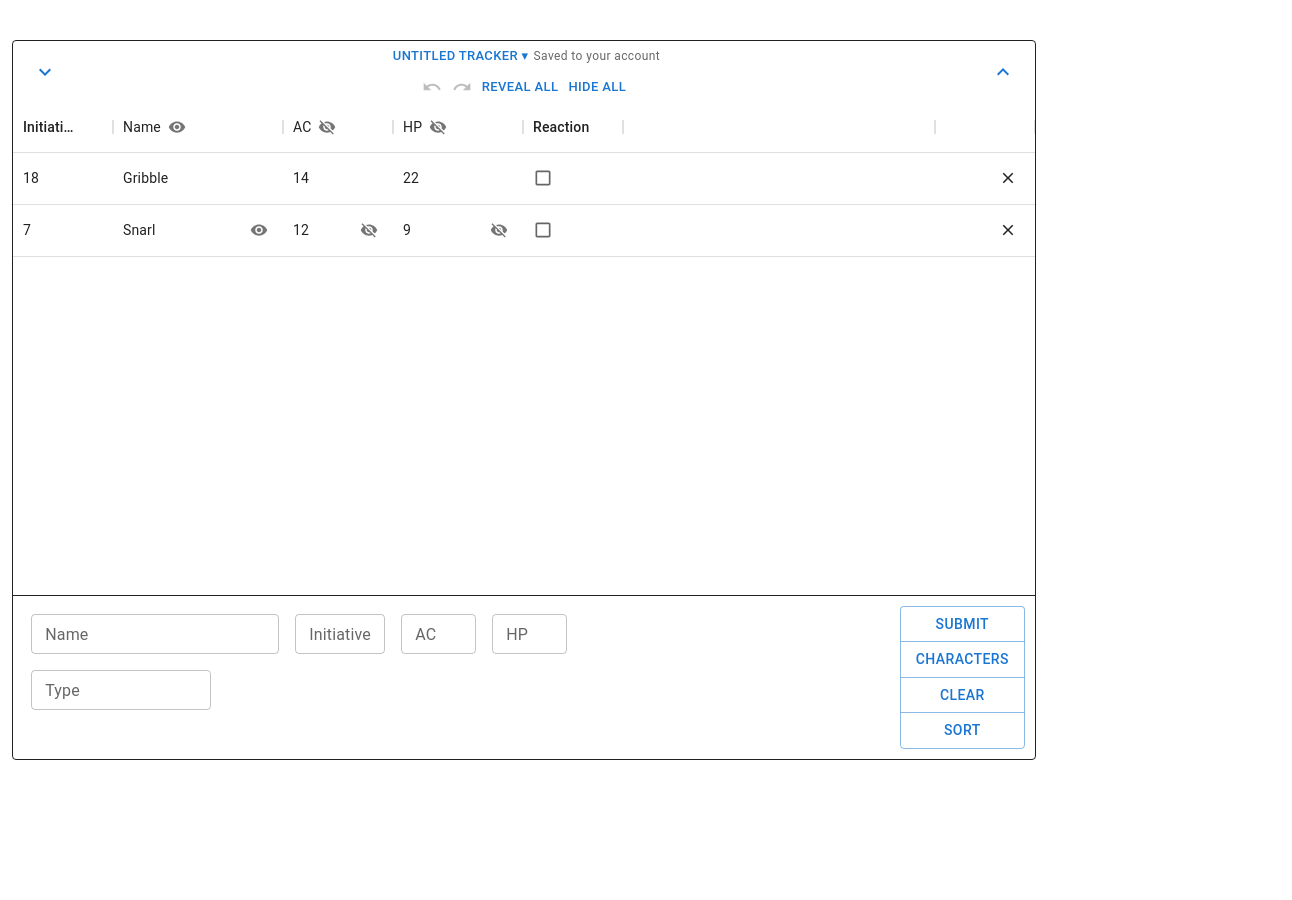
choosing a creature in the form › fills the name, initiative, AC and HP that were left empty
Expected: the text "Gribble" is shown, x1=123 y1=168 x2=168 y2=188
Type "Creature" into the dropdown labelled "Type".
click(105, 690); type("Creature")  # box x1=37 y1=676 x2=172 y2=704
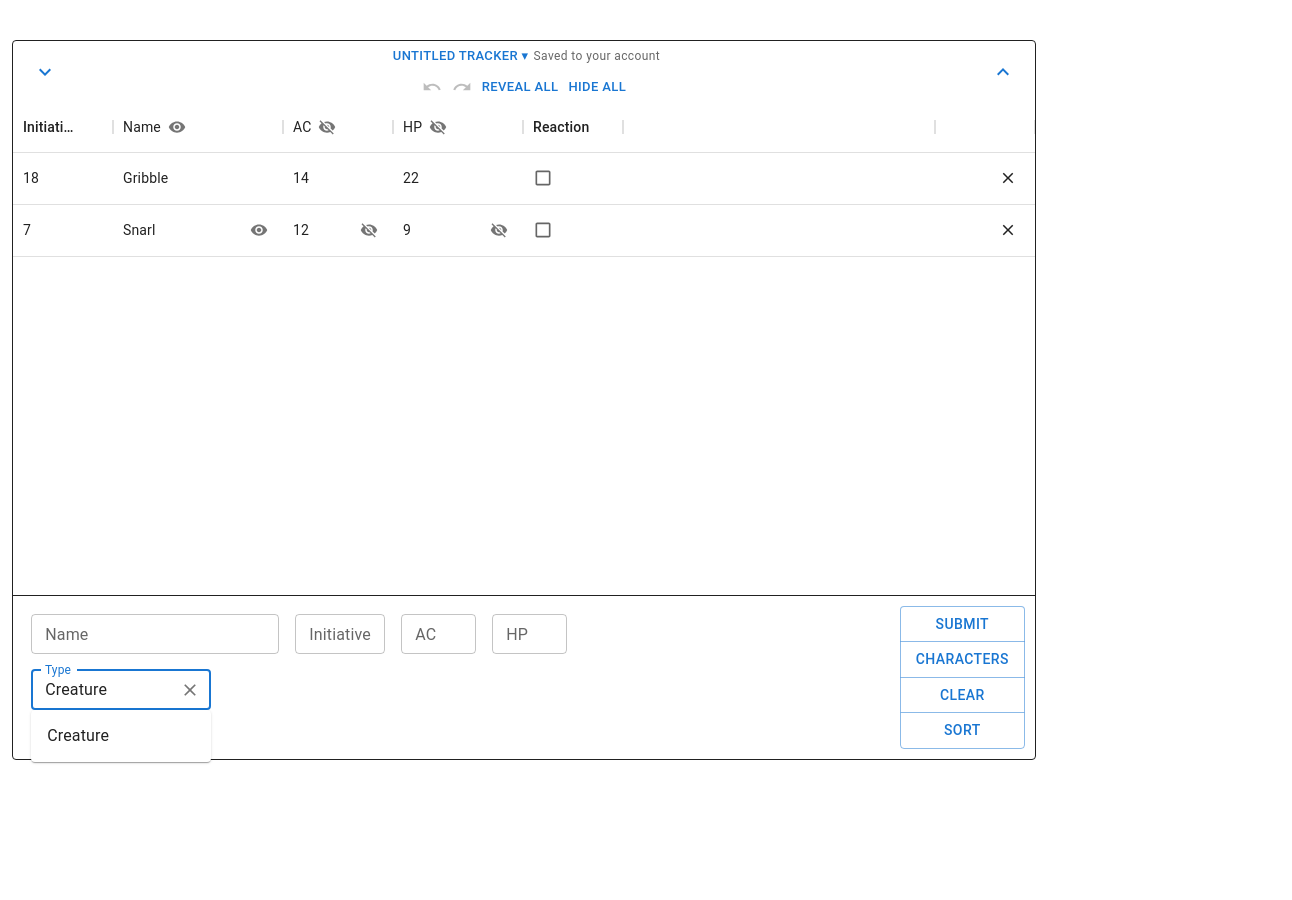
Press Enter in the dropdown labelled "Type", box x1=37 y1=676 x2=172 y2=704
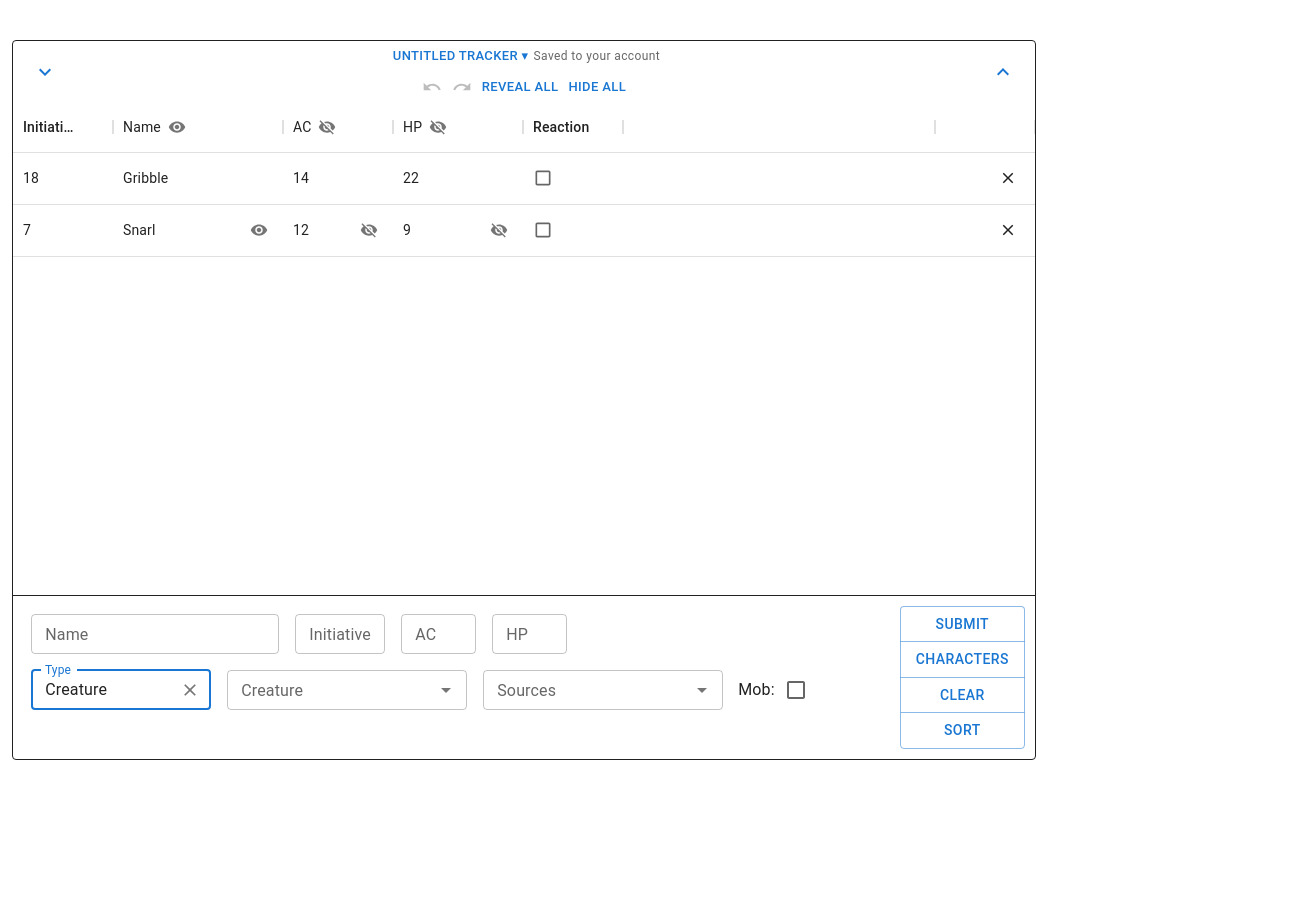
Type "Goblin" into the dropdown labelled "Creature".
click(331, 690); type("Goblin")  # box x1=233 y1=676 x2=428 y2=704
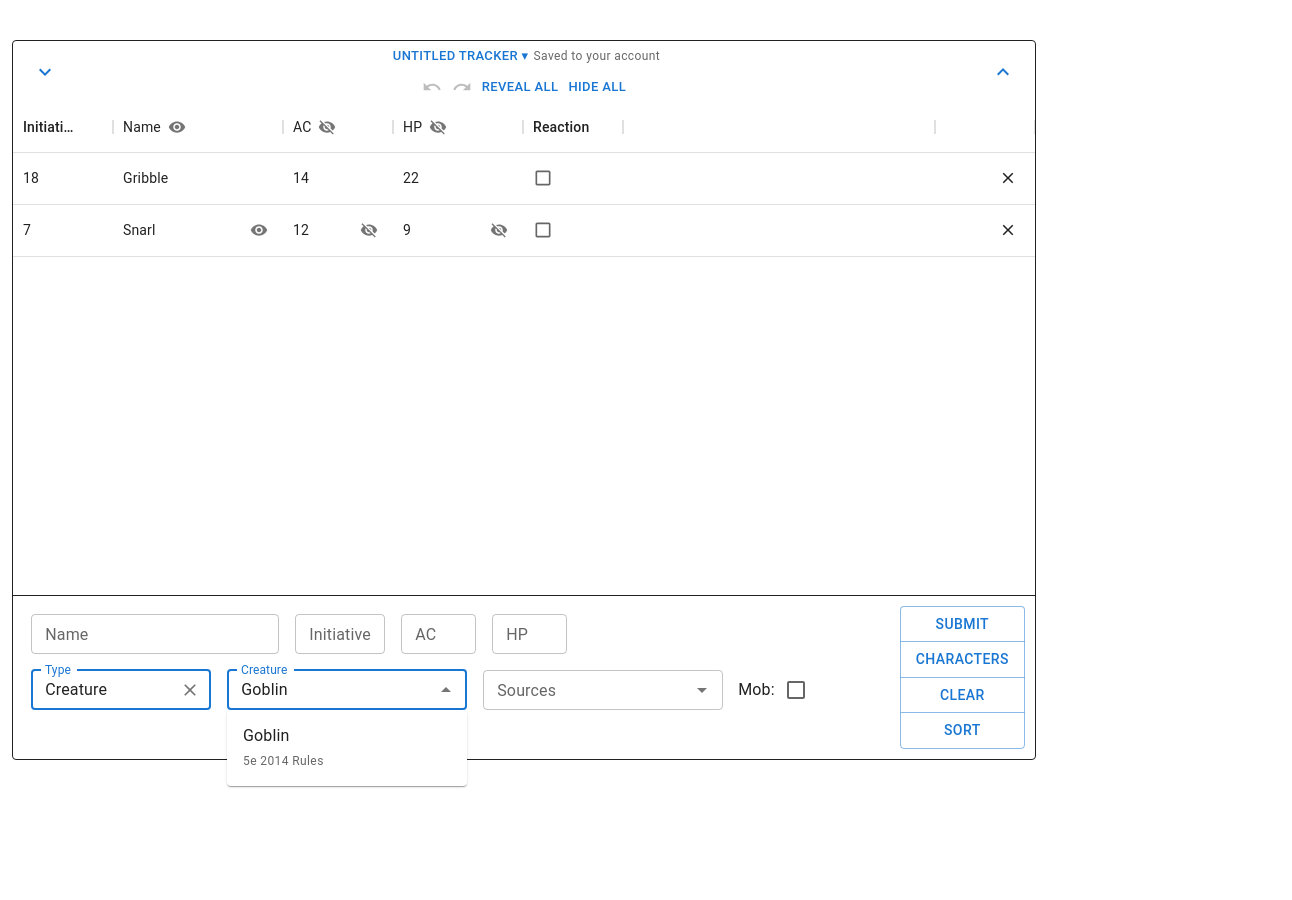
Click the option "Goblin 5e 2014 Rules".
click(283, 747)  # box x1=243 y1=726 x2=324 y2=768
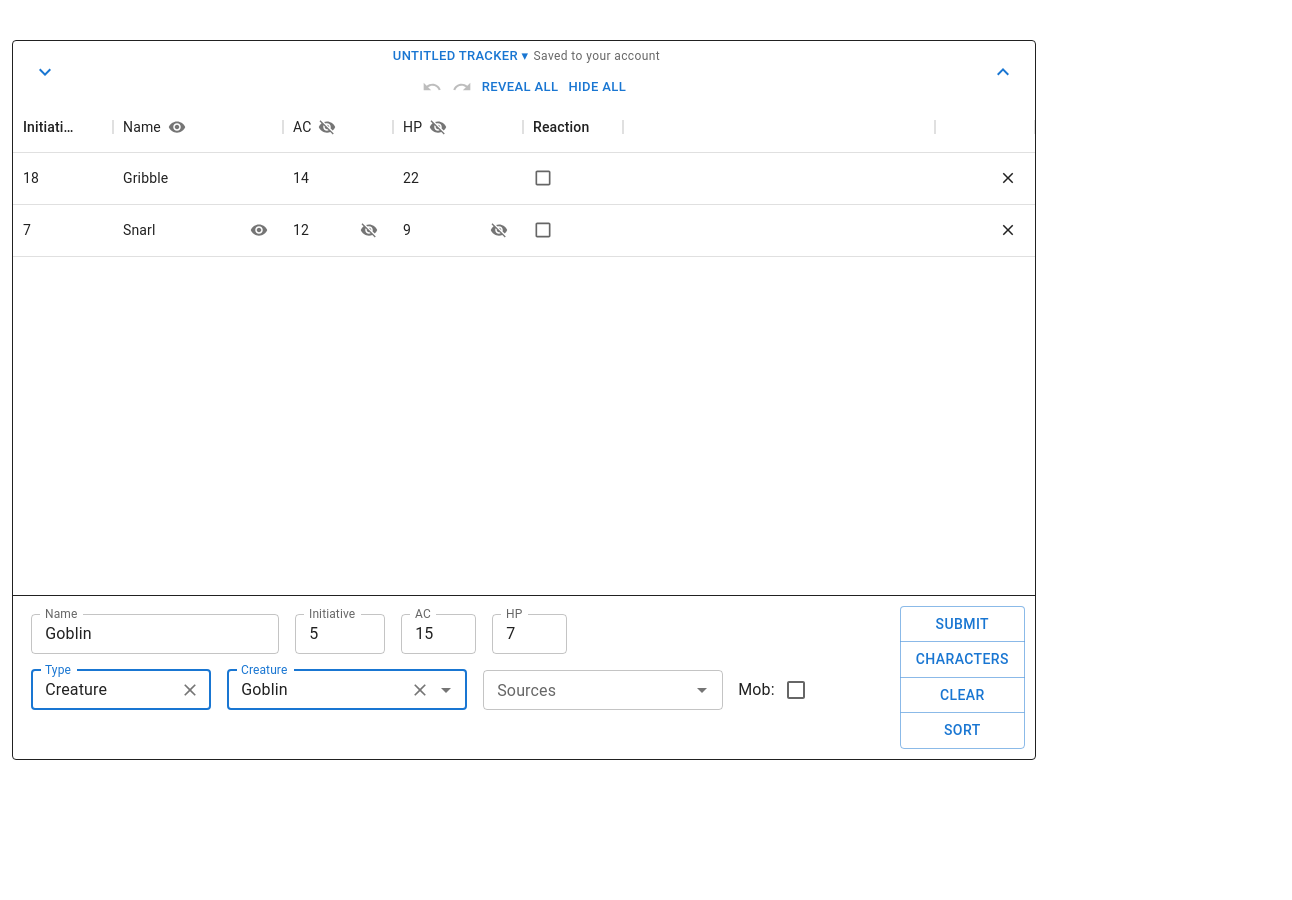
Expected: the field labelled "Name" holds "Goblin", x1=31 y1=614 x2=279 y2=654
Expected: the field labelled "AC" holds "15", x1=401 y1=614 x2=476 y2=654
Expected: the field labelled "HP" holds "7", x1=492 y1=614 x2=567 y2=654
